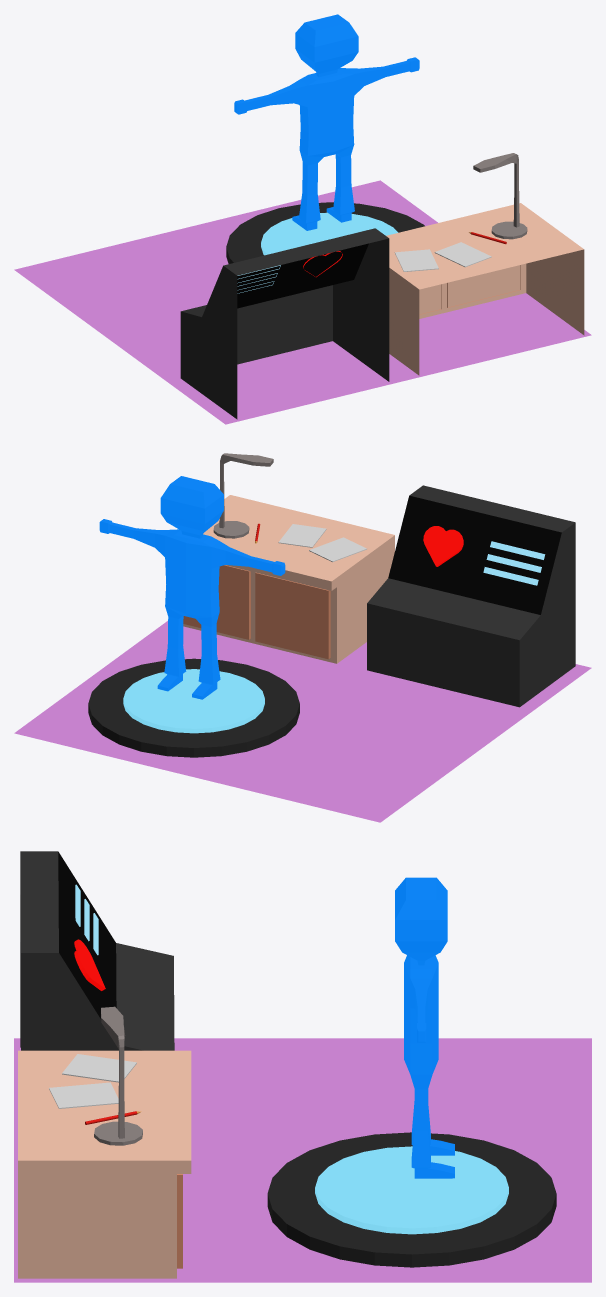
3 renders of one model, top to bottom at view 1: azimuth 30°, elevation 25°; view 2: azimuth 150°, elevation 25°; view 3: azimuth 270°, elevation 25°, orthographic. The views are drawn at different scales.
Visible parts, largest first — view 1: Plane, Cube.001, Cube.002, Cube, Cube.007, Cylinder, Cylinder.001, Cylinder.002, Cube.009, Cube.008; view 2: Plane, Cube.001, Cube.002, Cube, Cube.007, Cylinder, Cylinder.001, Cube.011, Cube.010, Cylinder.002, Cube.003, Cube.008 (+1 smaller); view 3: Plane, Cube.002, Cylinder, Cube.001, Cylinder.001, Cube, Cube.007, Cylinder.002, Cube.009, Cube.008, Cube.003, Cube.010.
Part boxes in pixels (x1,y1,x2,y2): Plane: [14, 180, 591, 424]; Cube.001: [180, 228, 389, 419]; Cube.002: [386, 203, 584, 375]; Cube: [234, 14, 419, 230]; Cube.007: [237, 243, 368, 308]; Cylinder: [226, 202, 424, 263]; Cylinder.001: [261, 212, 398, 255]; Cylinder.002: [473, 153, 527, 239]; Cube.009: [434, 242, 491, 267]; Cube.008: [394, 249, 438, 271]; Plane: [14, 621, 591, 822]; Cube.001: [367, 485, 575, 707]; Cube.002: [183, 495, 394, 663]; Cube: [99, 476, 285, 699]; Cube.007: [388, 495, 561, 614]; Cylinder: [88, 658, 299, 757]; Cylinder.001: [123, 669, 264, 733]; Cube.011: [255, 572, 330, 659]; Cube.010: [183, 565, 250, 639]; Cylinder.002: [213, 453, 273, 538]; Cube.003: [423, 526, 463, 566]; Cube.008: [309, 537, 366, 562]; Plane: [14, 1038, 591, 1282]; Cube.002: [18, 1050, 191, 1278]; Cylinder: [267, 1132, 556, 1267]; Cube.001: [20, 851, 174, 1050]; Cylinder.001: [315, 1146, 508, 1234]; Cube: [395, 877, 454, 1178]; Cube.007: [58, 852, 116, 1019]; Cylinder.002: [94, 1006, 142, 1145]; Cube.009: [49, 1082, 118, 1108]; Cube.008: [62, 1054, 136, 1082]; Cube.003: [74, 939, 105, 990]; Cube.010: [177, 1174, 182, 1268].
Size of the model in its own units: 4 by 2.42 by 4.
